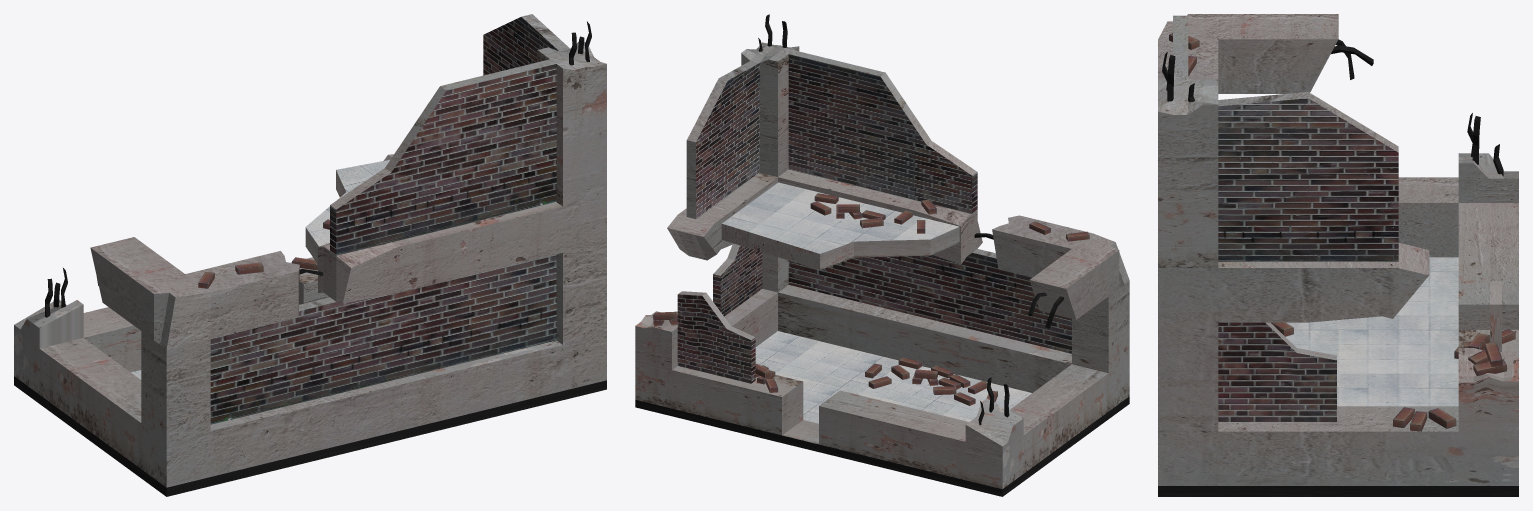
The model's file is ruined_house_low_poly.glb.
3 renders of one model, left to right at view 1: azimuth 30°, elevation 25°; view 2: azimuth 150°, elevation 25°; view 3: azimuth 270°, elevation 25°, orthographic. The views are drawn at different scales.
Visible parts, largest first — view 1: Object_2, Object_3, Object_5, Object_4; view 2: Object_2, Object_3, Object_4, Object_5; view 3: Object_2, Object_3, Object_4, Object_5.
Part boxes in pixels (x1=…): Object_2: x1=14, y1=14, x2=606, y2=487; Object_3: x1=198, y1=17, x2=558, y2=424; Object_5: x1=14, y1=21, x2=606, y2=496; Object_4: x1=131, y1=160, x2=389, y2=379; Object_2: x1=635, y1=42, x2=1129, y2=489; Object_3: x1=652, y1=54, x2=1089, y2=405; Object_4: x1=722, y1=182, x2=1031, y2=423; Object_5: x1=635, y1=14, x2=1129, y2=496; Object_2: x1=1158, y1=14, x2=1518, y2=485; Object_3: x1=1169, y1=33, x2=1515, y2=431; Object_4: x1=1285, y1=257, x2=1458, y2=406; Object_5: x1=1158, y1=39, x2=1518, y2=496.
Bounding box in the file's own units: 10 × 7.97 × 6.
Materials: 4 (4 with a texture image).
